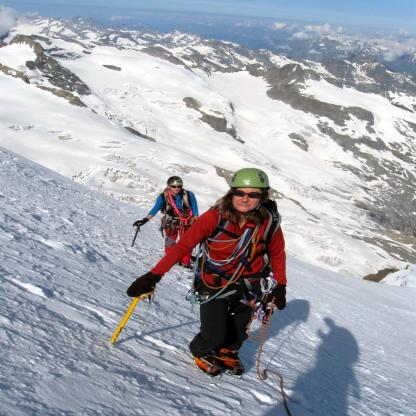Helmet: (226, 168, 270, 215), (168, 175, 185, 188)
